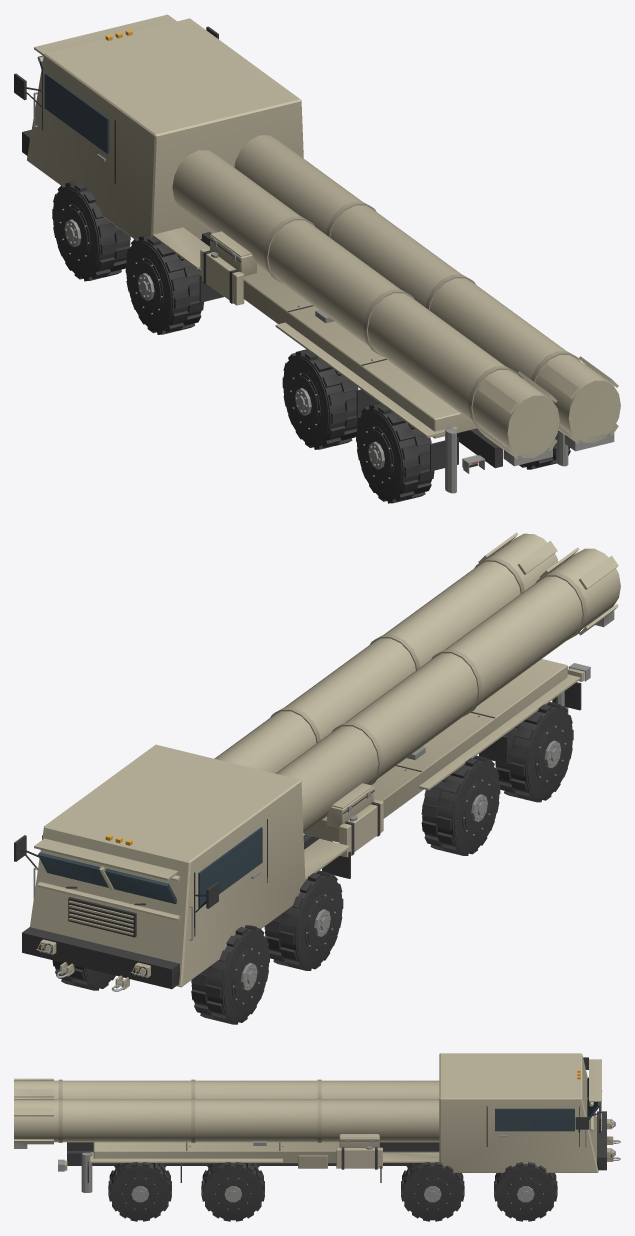
File: rus_mlrs_isk.glb
3 views of the same model, one above another, from view 1: azimuth 30°, elevation 25°; view 2: azimuth 150°, elevation 25°; view 3: azimuth 270°, elevation 25° (orthographic). The views are drawn at different scales.
Visible parts, largest first — view 1: barrel, body, turret, wheel_2, wheel_6, wheel_4, wheel_0; view 2: body, barrel, turret, wheel_4, wheel_6, wheel_0, wheel_2, wheel_1; view 3: barrel, body, turret, wheel_7, wheel_5, wheel_3, wheel_1.
Part boxes in pixels (x1,y1,x2,y2): barrel: (172,135,620,466); body: (14,14,557,473); turret: (209,231,568,493); wheel_2: (125,235,203,334); wheel_6: (356,403,434,503); wheel_4: (282,349,358,449); wheel_0: (52,181,130,281); body: (14,663,590,991); barrel: (214,532,620,832); turret: (303,659,568,842); wheel_4: (421,755,500,855); wheel_6: (495,702,573,802); wheel_0: (191,925,269,1024); wheel_2: (264,870,343,970); wheel_1: (52,960,115,990); barrel: (14,1078,439,1148); body: (58,1053,620,1182); turret: (81,1134,379,1192); wheel_7: (108,1162,171,1221); wheel_5: (201,1162,264,1221); wheel_3: (401,1162,464,1221); wheel_1: (494,1162,557,1221).
Size of the model in its own units: 3.07 by 2.9 by 13.06.
